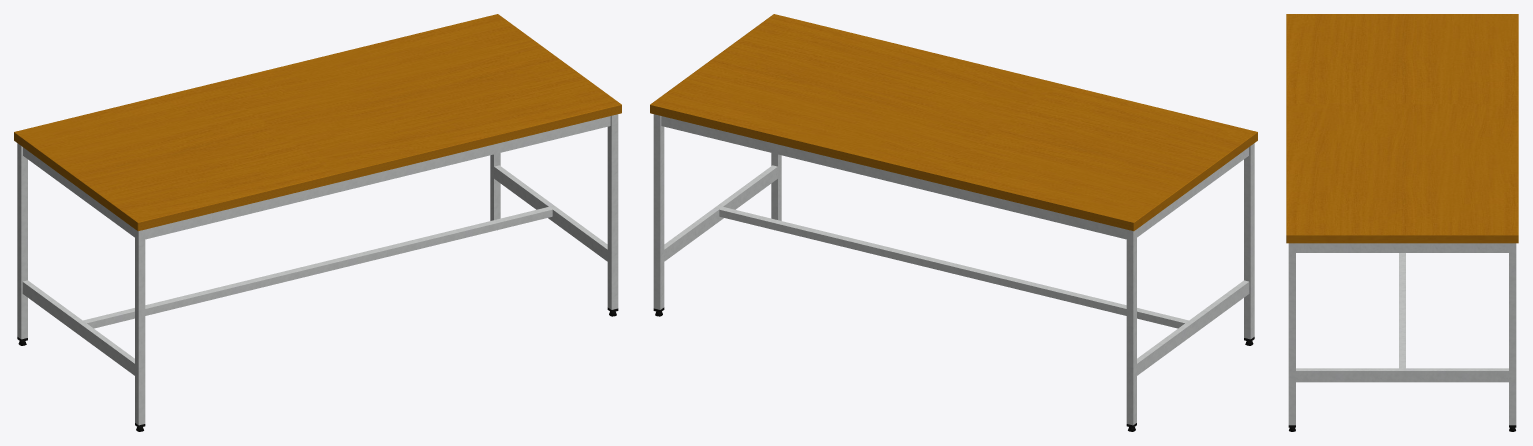
The model's file is Table_03.dae.
The picture shows the model from 3 angles, left to right: view 1: azimuth 30°, elevation 25°; view 2: azimuth 150°, elevation 25°; view 3: azimuth 270°, elevation 25°; orthographic projection. The views are drawn at different scales.
Parts seen in each view (by area): view 1: Table_03; view 2: Table_03; view 3: Table_03.
Boxes of the visible parts, x1,y1,x2,y2 form: Table_03: [14, 14, 621, 431]; Table_03: [650, 14, 1257, 431]; Table_03: [1286, 14, 1518, 431].
Bounding box in the file's own units: 1.8 × 0.8 × 0.751.
3 materials, 3 textured.
